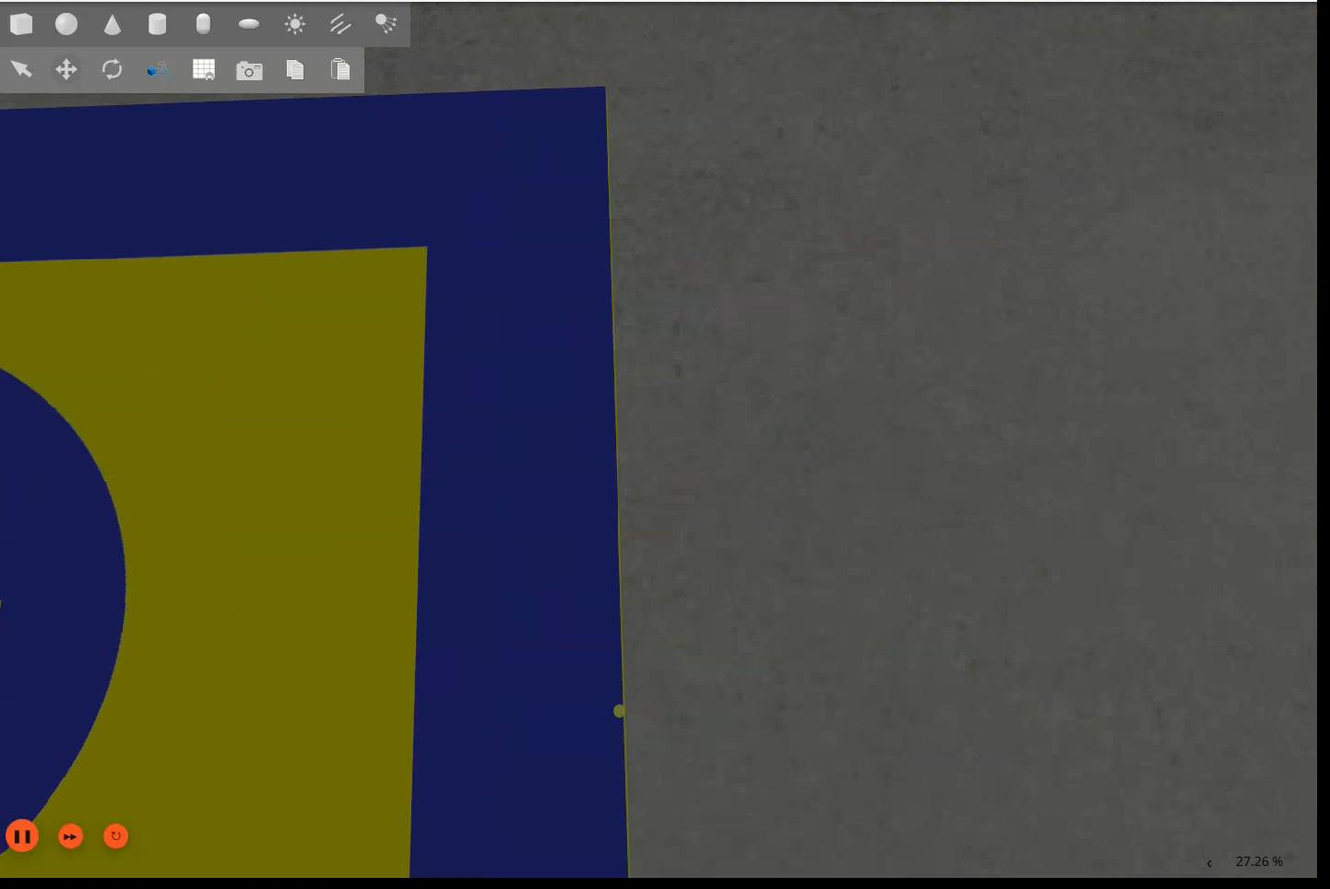large_base: (1, 82, 626, 883)
